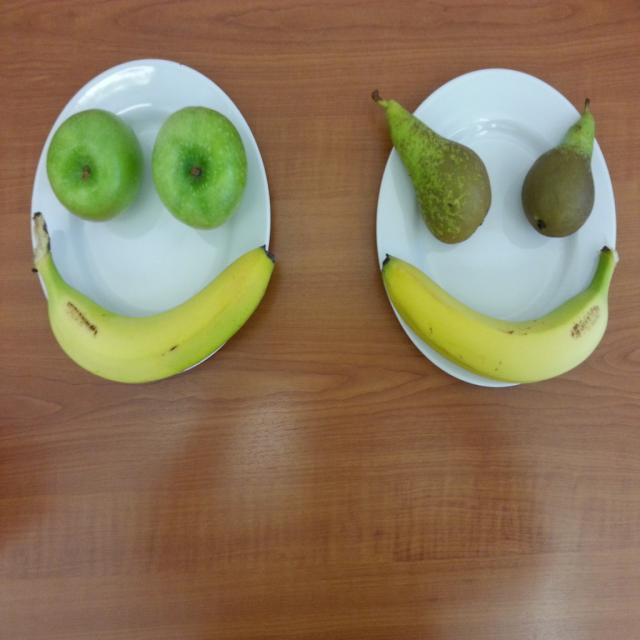apple: (151, 106, 248, 230), (48, 110, 145, 221)
banana: (28, 216, 276, 385), (380, 251, 620, 385)
pear: (386, 97, 490, 243), (520, 107, 598, 236)
